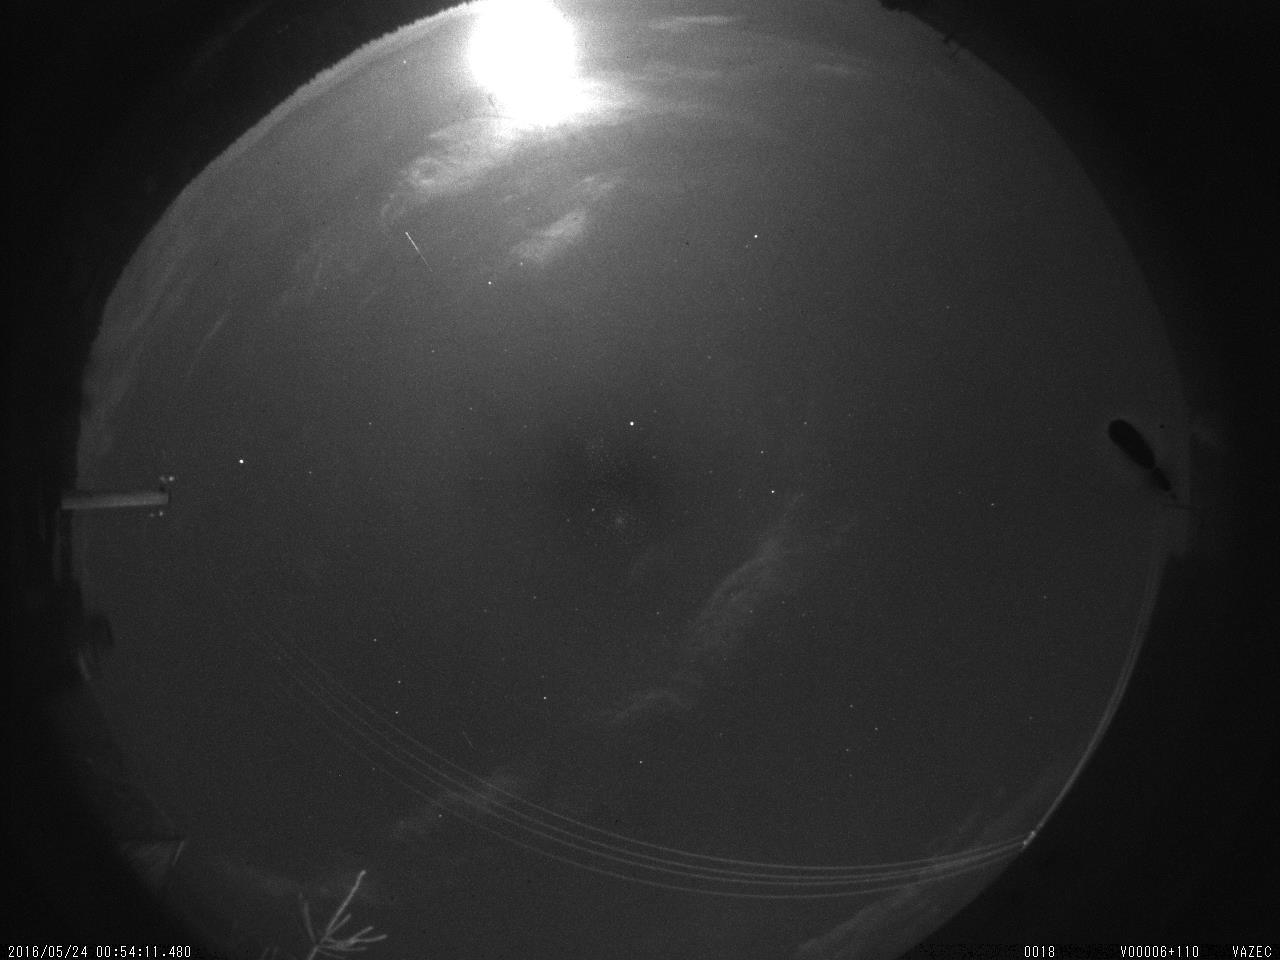Meteor: (400, 224, 433, 274)
